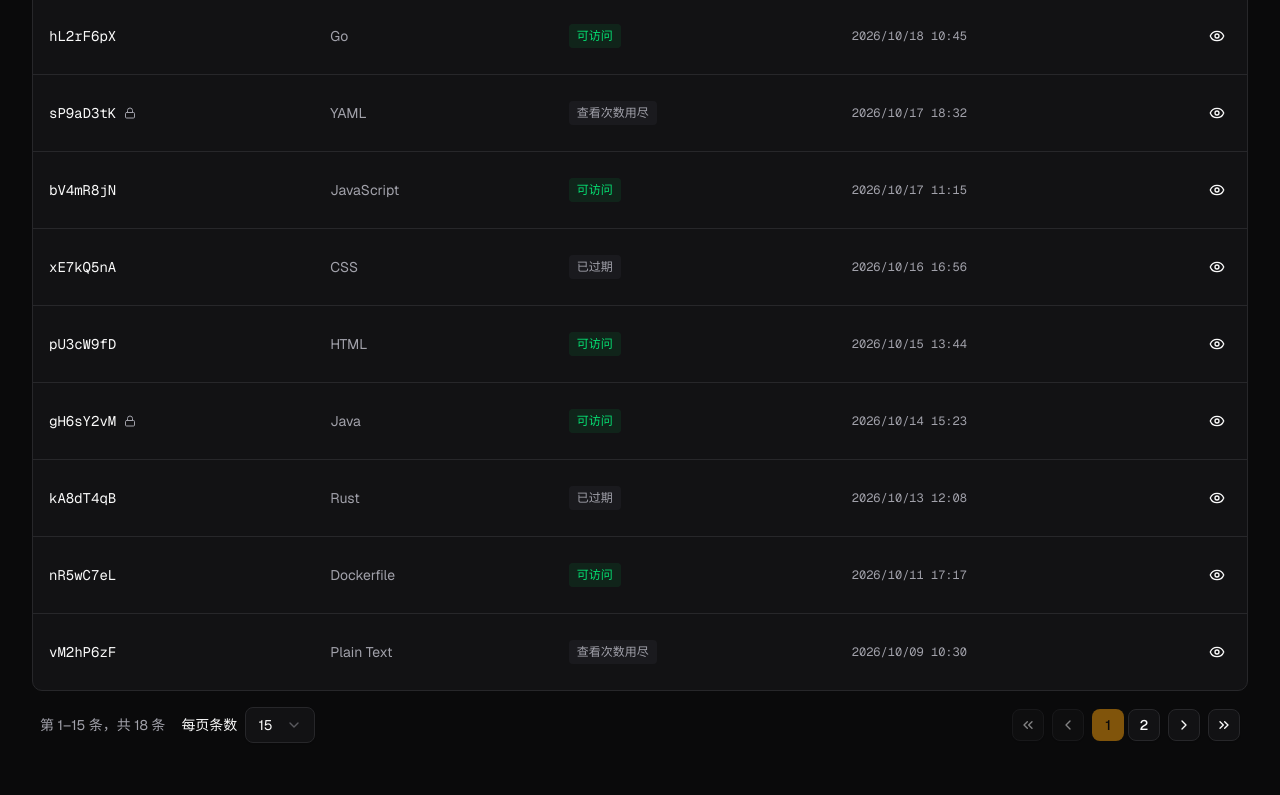
Test: 后台搜索原型 › 查询全量记录后分页，输入草稿不会提前改变结果，提交回到首页
(page scrolled)
Click the 3rd button named "下一页" at (1184, 725), box [1168,709,1200,741]
(page scrolled)
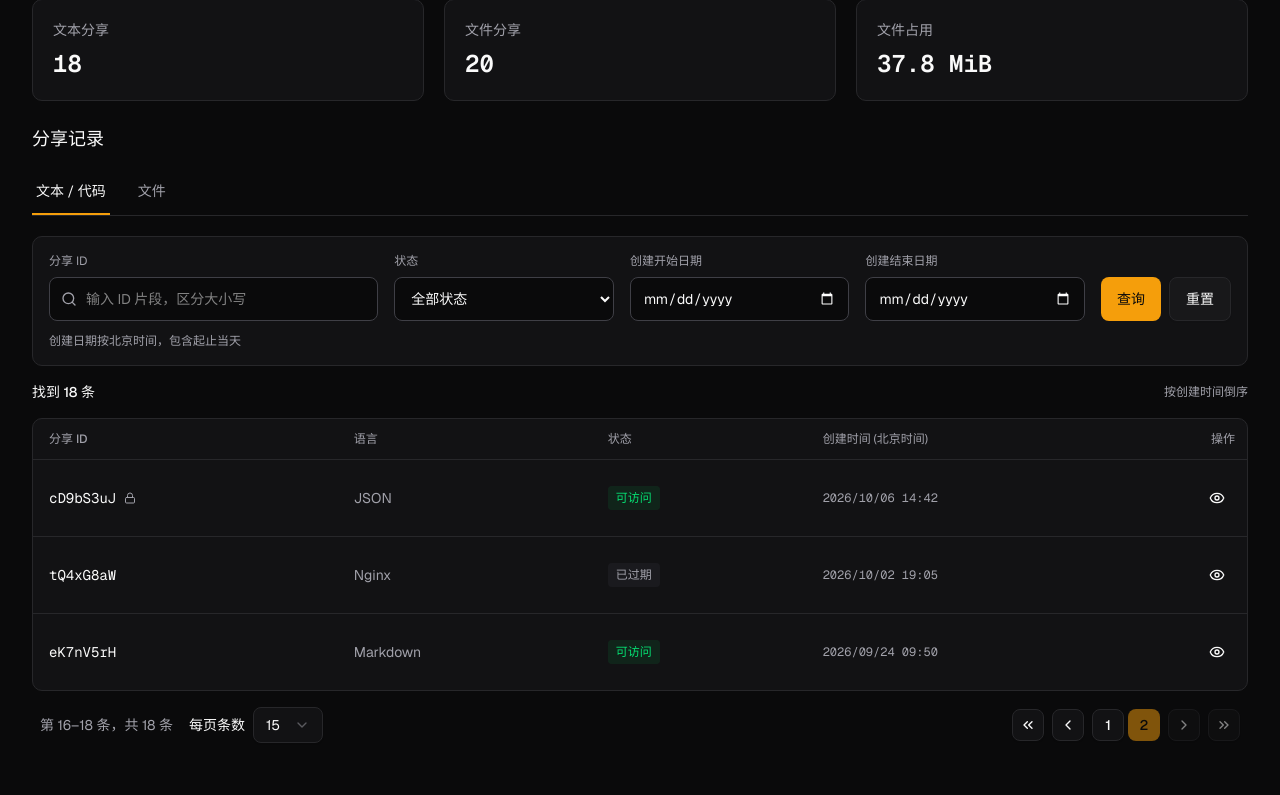
Type "eK7nV5rH" into the search field at (214, 299), box [49,277,378,321]
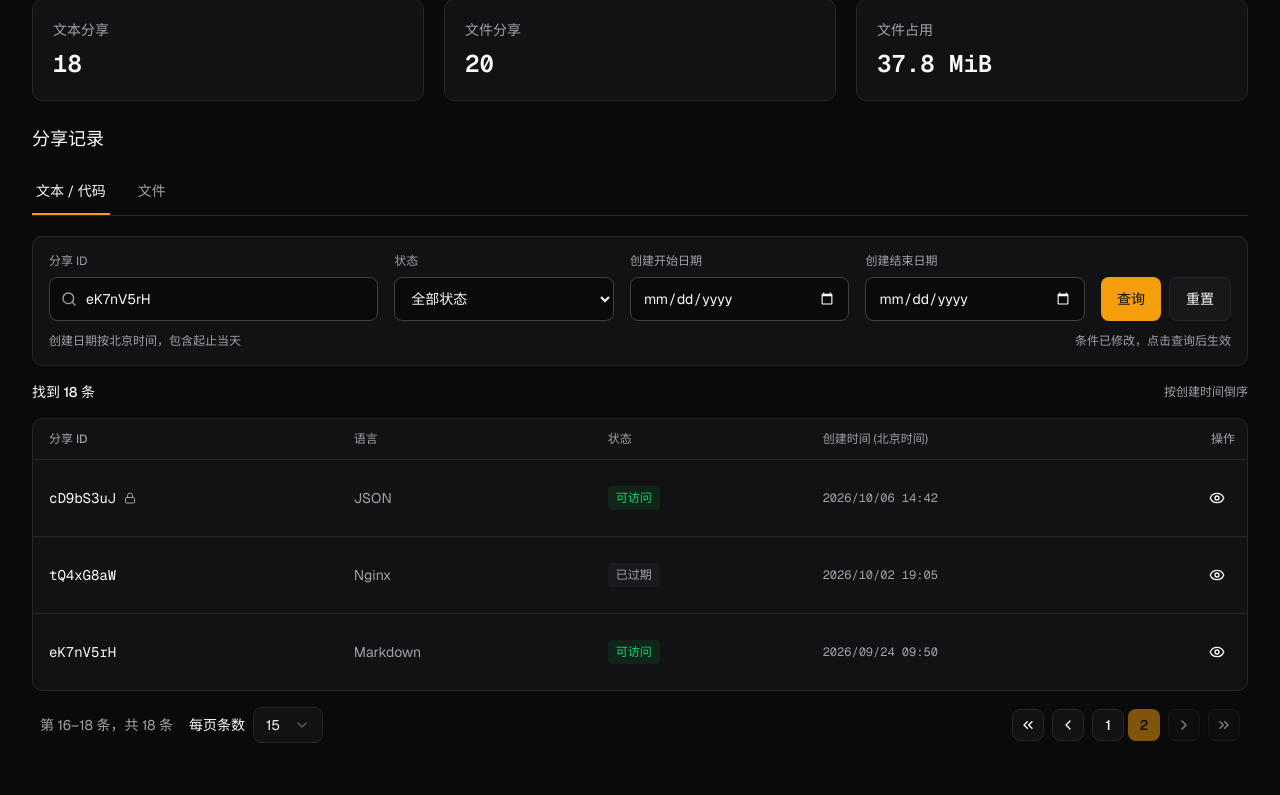
Check: the text "找到 1 条" is not shown
Submit the form, box [32,236,1248,366]
(page scrolled)
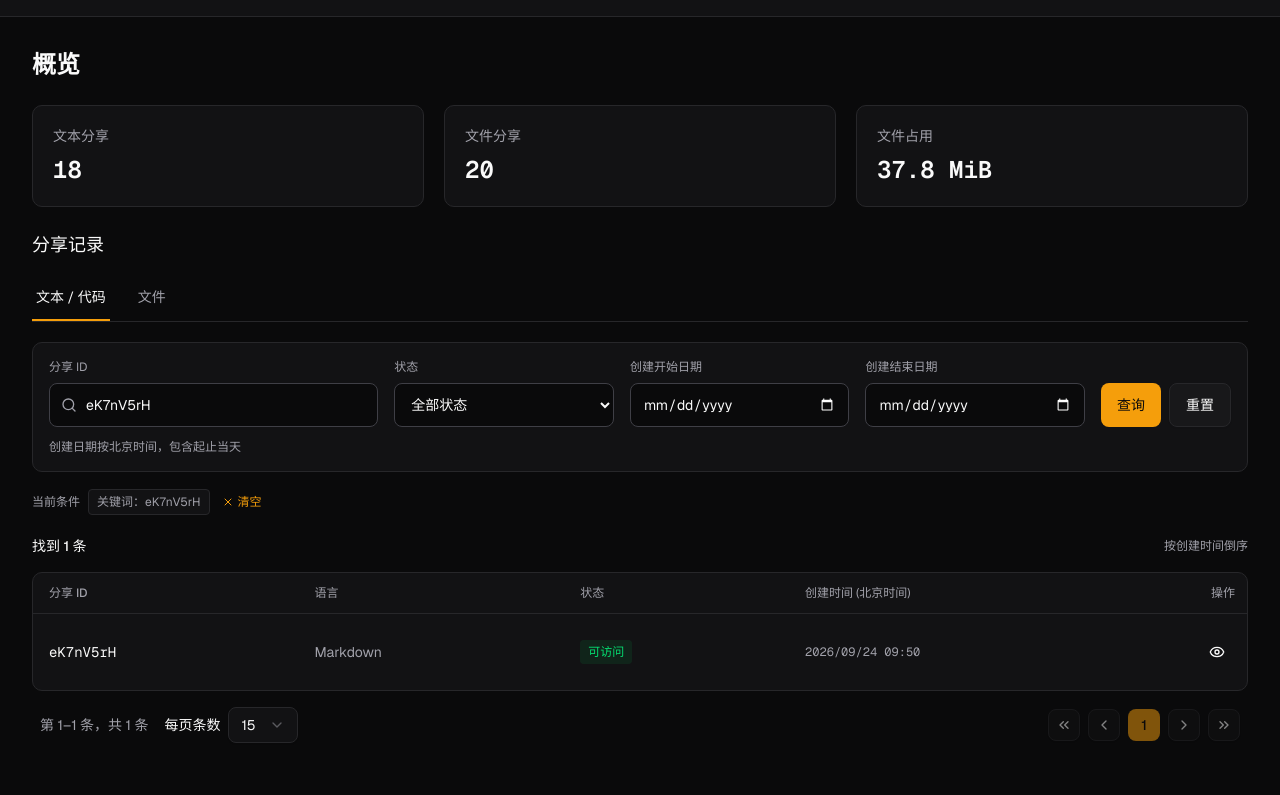
Check: the table shows "eK7nV5rH", box [49,643,116,661]
Check: the text "找到 1 条" is shown, box [32,536,86,556]
Check: the 2nd button named "上一页" is disabled, box [1088,709,1120,741]
